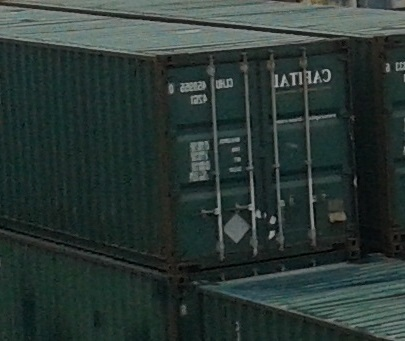container_door: (165, 35, 358, 272)
